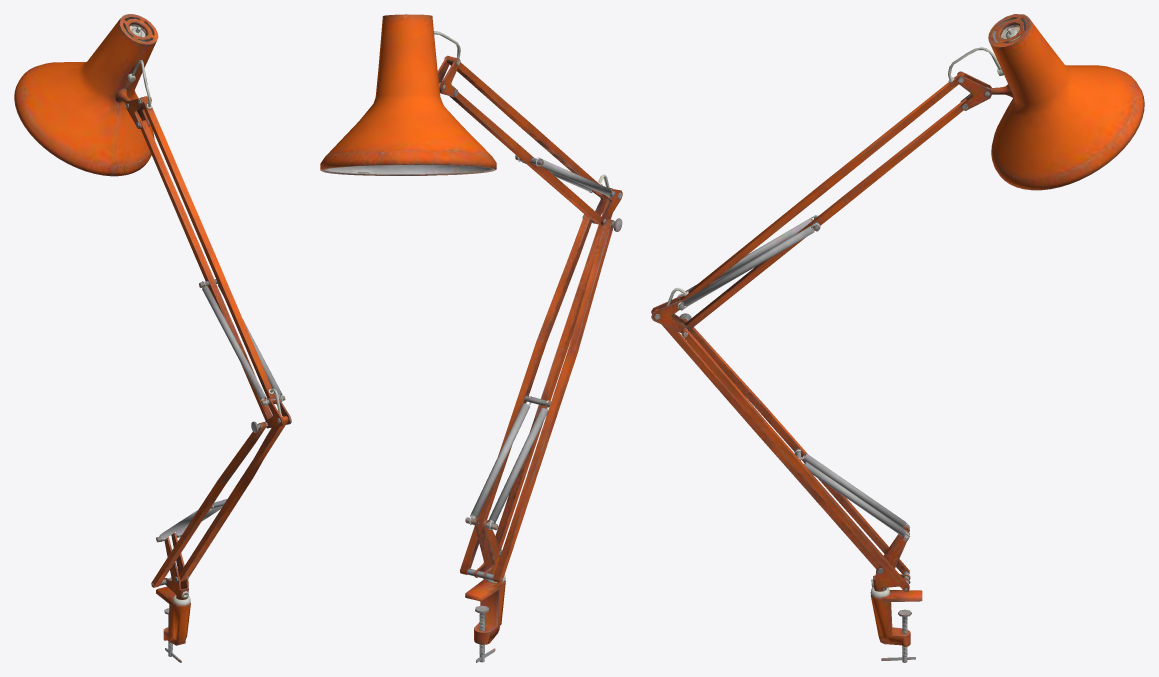
The model's file is desk_lamp.glb.
3 renders of one model, left to right at view 1: azimuth 30°, elevation 25°; view 2: azimuth 150°, elevation 25°; view 3: azimuth 270°, elevation 25°, orthographic. The views are drawn at different scales.
Visible parts, largest first — view 1: desk_lamp_arm_01; view 2: desk_lamp_arm_01; view 3: desk_lamp_arm_01.
Part boxes in pixels (x1,y1,x2,y2): desk_lamp_arm_01: (14, 14, 291, 662); desk_lamp_arm_01: (320, 14, 622, 662); desk_lamp_arm_01: (651, 14, 1144, 662).
Size of the model in its own units: 0.2017 by 0.8926 by 0.6139.
2 materials, 2 textured.
